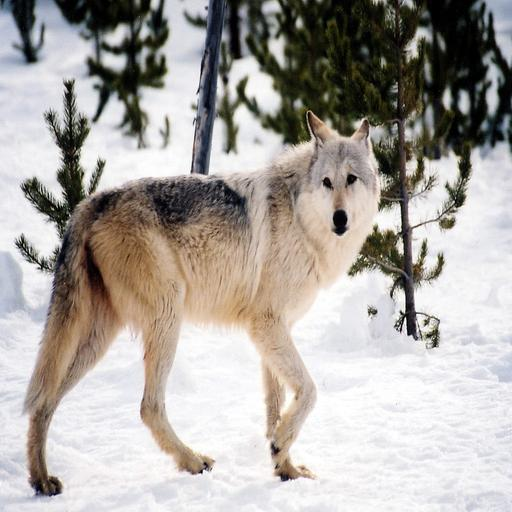Wolf: (0, 109, 396, 509)
